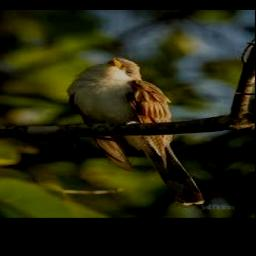Cuckoo: (68, 58, 203, 206)
